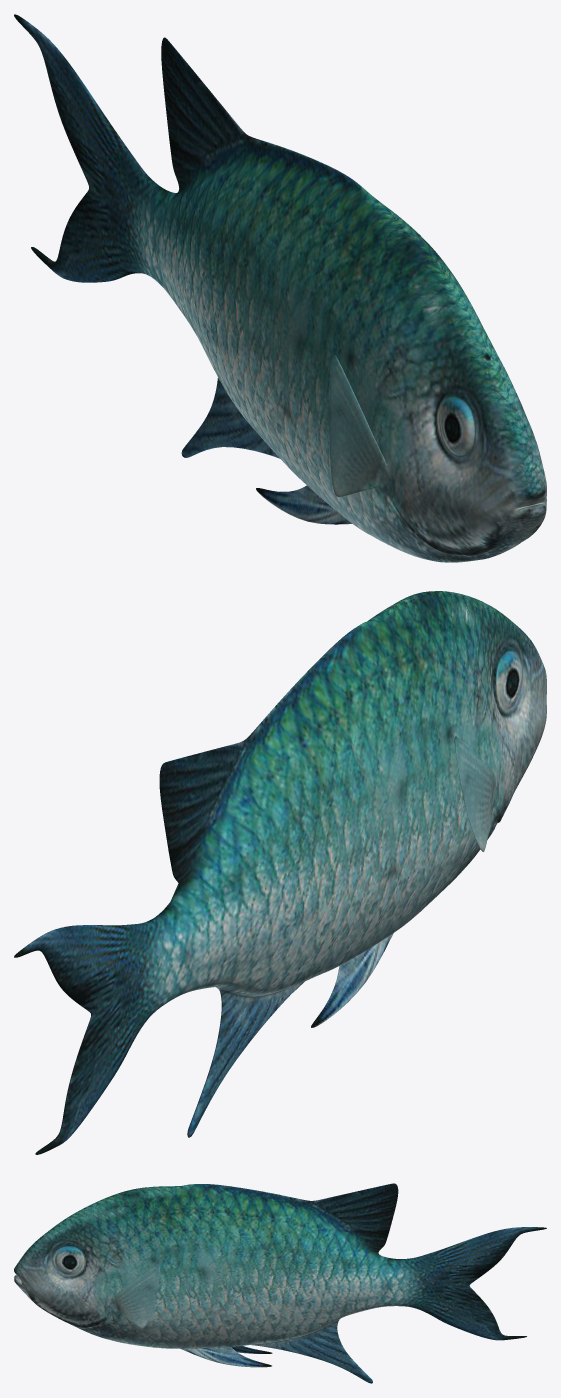
The model's file is bluegreenfish.gltf.
The picture shows the model from 3 angles, top to bottom: view 1: azimuth 30°, elevation 25°; view 2: azimuth 150°, elevation 25°; view 3: azimuth 270°, elevation 25°; orthographic projection. The views are drawn at different scales.
Parts seen in each view (by area): view 1: 13007_Blue-Green_Reef_Chromis_v2_l3; view 2: 13007_Blue-Green_Reef_Chromis_v2_l3; view 3: 13007_Blue-Green_Reef_Chromis_v2_l3.
Part boxes in pixels (bbox=[...]): 13007_Blue-Green_Reef_Chromis_v2_l3: bbox=[14, 14, 546, 562]; 13007_Blue-Green_Reef_Chromis_v2_l3: bbox=[14, 591, 546, 1154]; 13007_Blue-Green_Reef_Chromis_v2_l3: bbox=[14, 1183, 546, 1383].
Bounding box in the file's own units: 7.5 × 19.47 × 46.75.
1 material, 1 textured.
